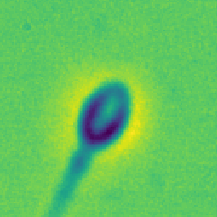normal: (35, 147, 93, 217)
